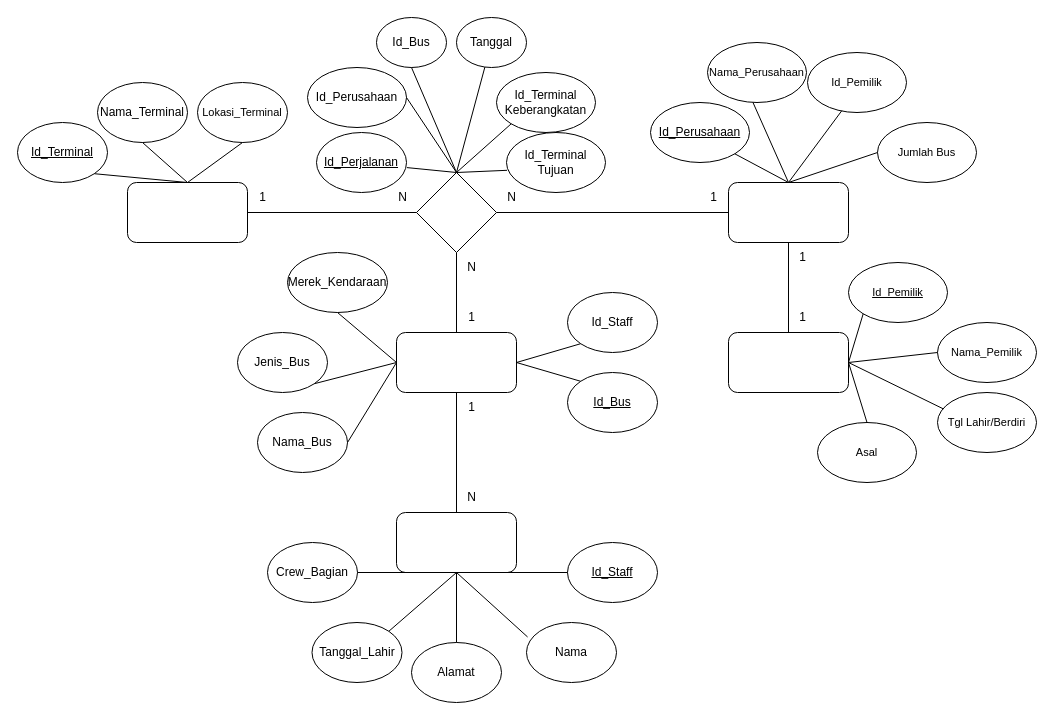
Some shapes in this 1054 by 720 pixel diagram are drawn without their labels. The centre of each missing label's shape, as x and y in pixels:
Bus: the point at 456,362
Pemilik_Perusahaan: the point at 788,362
Perjalanan: the point at 456,212
Perusahaan: the point at 788,212
Staff: the point at 456,542
Terminal: the point at 187,212
